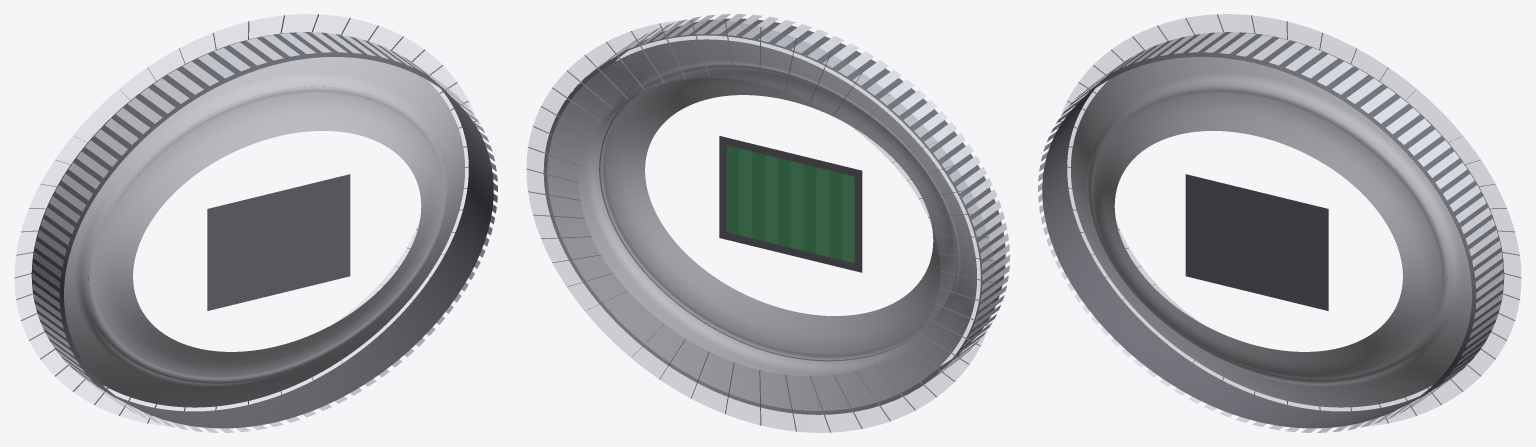
File: stadium_canopy.glb
The picture shows the model from 3 angles, left to right: view 1: azimuth 30°, elevation 25°; view 2: azimuth 150°, elevation 25°; view 3: azimuth 330°, elevation 25°; orthographic projection.
Parts seen in each view (by area): view 1: stadium_canopy; view 2: stadium_canopy; view 3: stadium_canopy.
Boxes of the visible parts, x1,y1,x2,y2 form: stadium_canopy: (14,14,497,432); stadium_canopy: (526,14,1009,432); stadium_canopy: (1038,14,1521,432).
Bounding box in the file's own units: 384 × 312 × 44.6.
